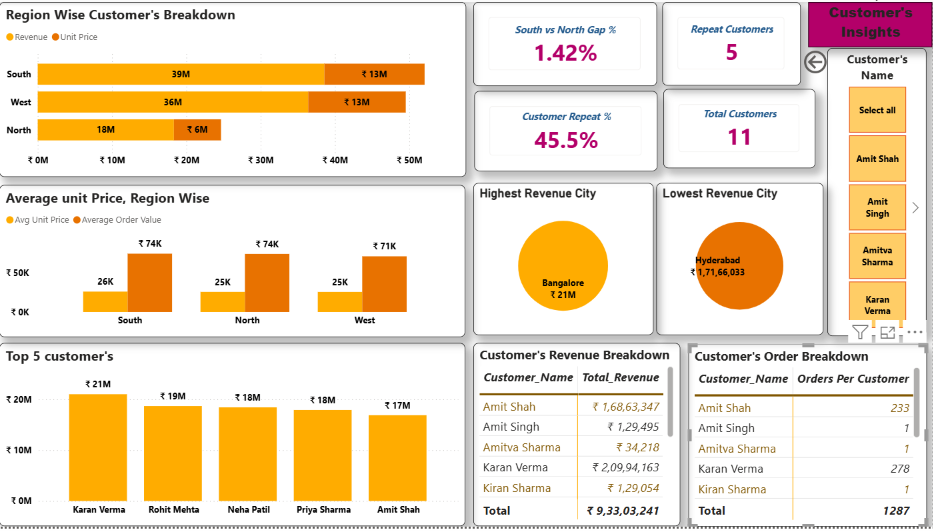

The dashboard page shown, as its layout file describes it:
{"tool":"powerbi","page":{"name":"Customer's Insights-SQ3","canvas":[1280,720],"ordinal":2},"visuals":[{"type":"pieChart","title":"Highest Revenue City","fields":{"Category":["fact_Sales.City"],"Y":["All Measures.Total_Revenue"]},"box":[650.5,248.4,247,208.6],"z":0},{"type":"pieChart","title":"Lowest Revenue City","fields":{"Category":["fact_Sales.City"],"Y":["All Measures.Total_Revenue"]},"box":[901.6,248.4,229.2,208.6],"z":1000},{"type":"barChart","title":"Region Wise Customer''s Breakdown","fields":{"Category":["dim_City.Region"],"Y":["All Measures.Revenue","Sum(fact_Sales.Unit_Price)"]},"box":[0,0,640.9,240.2],"z":2000},{"type":"clusteredColumnChart","title":"Average unit Price, Region Wise","fields":{"Category":["fact_Sales.region"],"Y":["All Measures.Avg Unit Price","All Measures.Average Order Value"]},"box":[0,251.1,639.5,208.6],"z":3000},{"type":"cardVisual","fields":{"Data":["All Measures.South vs North Gap %"]},"box":[650.4,0,251.9,115.3],"z":4000},{"type":"cardVisual","fields":{"Data":["All Measures.Customer Repeat %"]},"box":[651.5,122.1,251.5,110.3],"z":5000},{"type":"cardVisual","fields":{"Data":["All Measures.Repeat Customers"]},"box":[910.3,0,189.7,114.7],"z":6000},{"type":"actionButton","box":[1110.2,20.6,101.6,41.2],"z":7000},{"type":"actionButton","title":"Customer''s Insights","box":[1110.2,0,170.2,61.8],"z":8000},{"type":"cardVisual","fields":{"Data":["All Measures.Total Customers"]},"box":[911.2,119.4,208.6,108.4],"z":9000},{"type":"clusteredColumnChart","title":"Top 5 customer''s","fields":{"Category":["fact_Sales.Customer_Name"],"Y":["All Measures.Total_Revenue"]},"box":[0,468,639.5,251.1],"z":10000},{"type":"pivotTable","title":"Customer''s Revenue Breakdown","fields":{"Rows":["fact_Sales.Customer_Name"],"Values":["All Measures.Total_Revenue"]},"box":[650.5,468,284.1,251.1],"z":11000},{"type":"pivotTable","title":"Customer''s Order Breakdown","fields":{"Rows":["fact_Sales.Customer_Name"],"Values":["All Measures.Orders Per Customer"]},"box":[946.2,470,327.2,250.4],"z":12000},{"type":"slicer","title":"Customer''s Name","fields":{"Values":["fact_Sales.Customer_Name"]},"box":[1136.3,63.1,135.9,395.2],"z":13000},{"type":"actionButton","box":[1099.2,61.8,101.6,41.2],"z":14000}]}

Visuals, with their boxes in screenshot pixels (x1, y1, x2, y2), scaled from the page's 1280x720 canvas onto the 933x531 screenshot:
"Highest Revenue City" pieChart: [474, 183, 654, 337]
"Lowest Revenue City" pieChart: [657, 183, 824, 337]
"Region Wise Customer''s Breakdown" barChart: [0, 0, 467, 177]
"Average unit Price, Region Wise" clusteredColumnChart: [0, 185, 466, 339]
cardVisual - All Measures.South vs North Gap %: [474, 0, 658, 85]
cardVisual - All Measures.Customer Repeat %: [475, 90, 658, 171]
cardVisual - All Measures.Repeat Customers: [664, 0, 802, 85]
actionButton: [809, 15, 883, 46]
"Customer''s Insights" actionButton: [809, 0, 932, 46]
cardVisual - All Measures.Total Customers: [664, 88, 816, 168]
"Top 5 customer''s" clusteredColumnChart: [0, 345, 466, 530]
"Customer''s Revenue Breakdown" pivotTable: [474, 345, 681, 530]
"Customer''s Order Breakdown" pivotTable: [690, 347, 928, 530]
"Customer''s Name" slicer: [828, 47, 927, 338]
actionButton: [801, 46, 875, 76]
